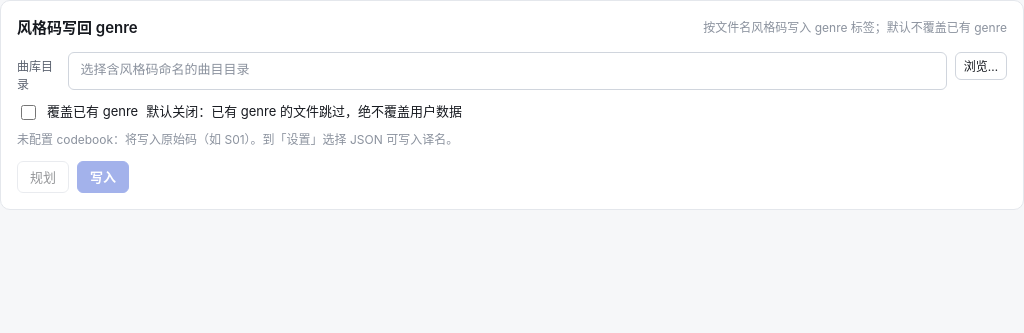
GenrePanel › 规划后展示摘要与将写入预览
Type "/lib" into the field labelled "曲库目录".
click(507, 70); type("/lib")  # box [68,52,947,90]
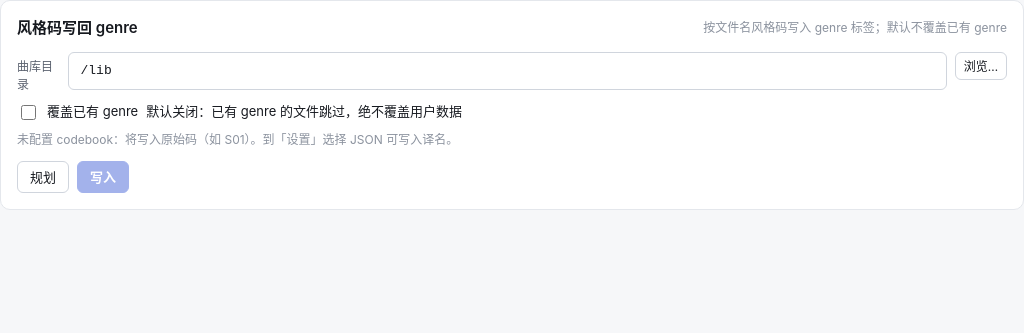
Click the button "规划".
click(43, 176)  # box [17,160,69,192]
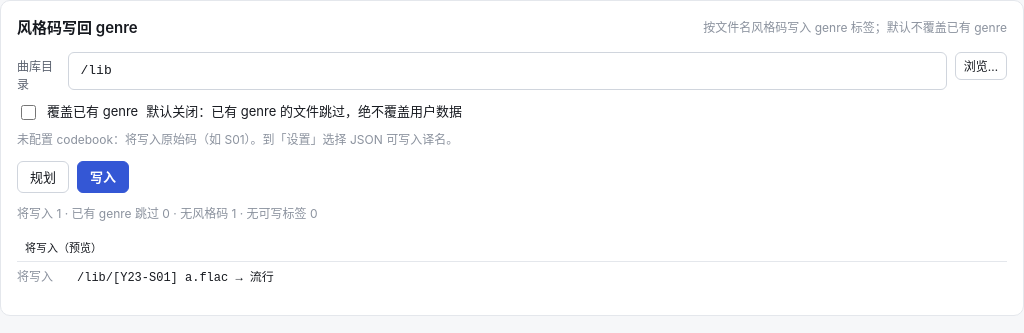
Now the text "将写入 1 · 已有 genre 跳过 0 · 无风格码 1 · 无可写标签 0" is shown, box [17,206,318,220]
Now the text "将写入 /lib/[Y23-S01] a.flac → 流行" is shown, box [17,269,274,285]
